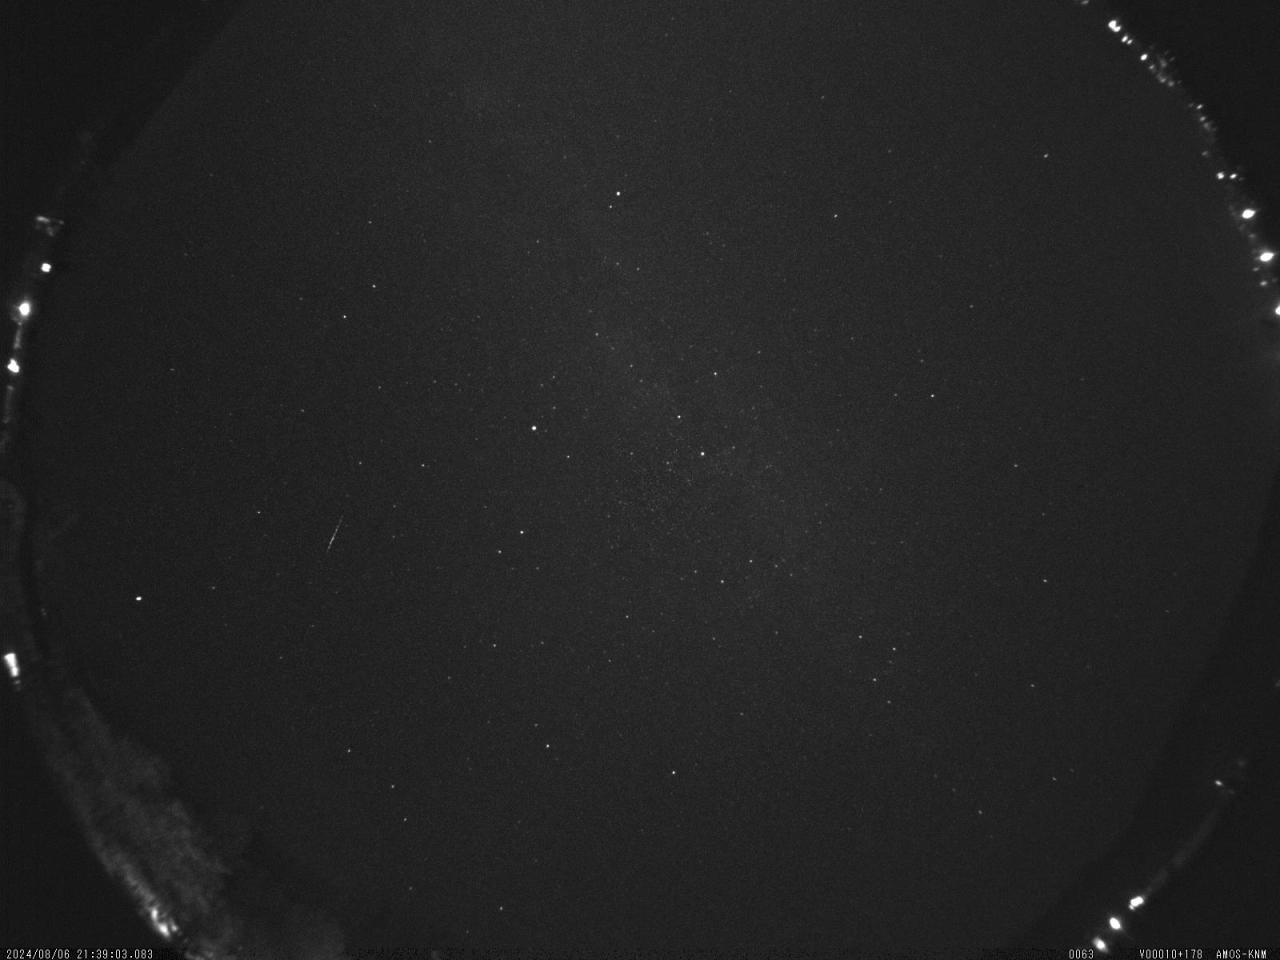Meteor: (319, 510, 350, 560)
